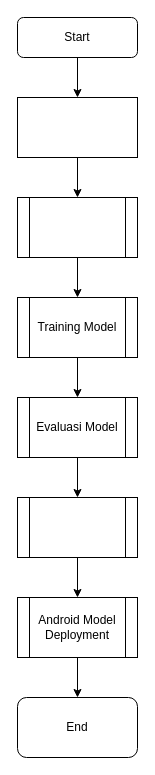
This 155x775 diagram has some shape labels left out. Here are the shapes that lost their labels. From the top down, the box of each, then its label:
(16, 96, 138, 158): Pengumpulan data
(16, 196, 138, 258): Preprocessing Data
(16, 496, 138, 558): Create Android App
